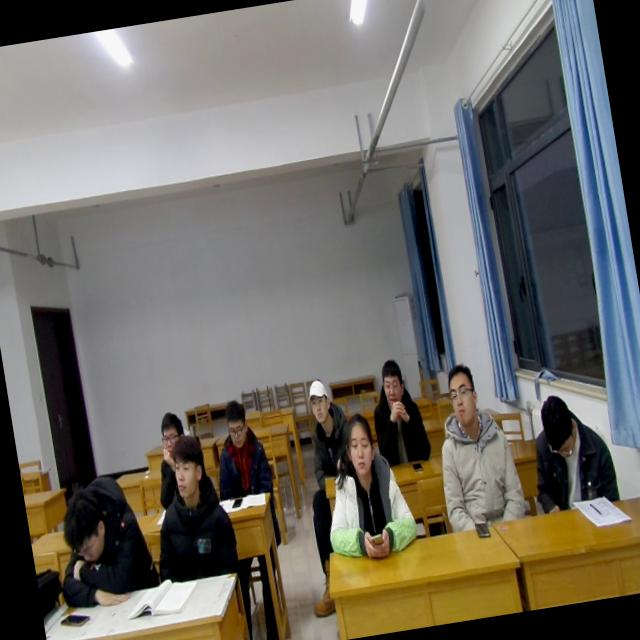bow: (45, 468, 162, 614)
down: (535, 388, 585, 463), (220, 398, 253, 452)
lookup: (339, 410, 383, 482), (440, 356, 483, 428), (167, 432, 210, 502), (376, 351, 410, 408), (303, 376, 336, 431), (154, 406, 186, 451)
sit: (424, 356, 529, 534), (312, 406, 422, 566), (138, 428, 242, 584), (523, 388, 622, 514), (364, 354, 434, 470), (205, 396, 276, 502), (298, 375, 361, 483), (146, 410, 196, 510)
